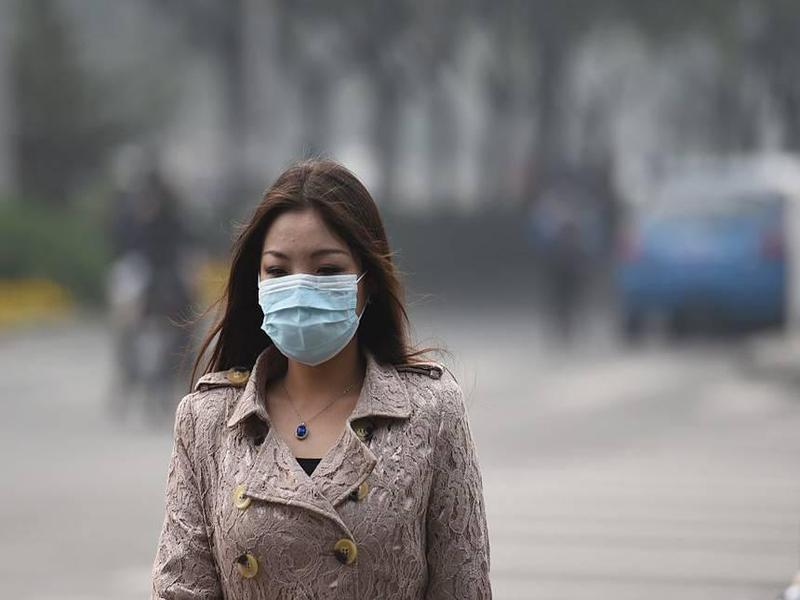with_mask: (260, 207, 369, 368)
